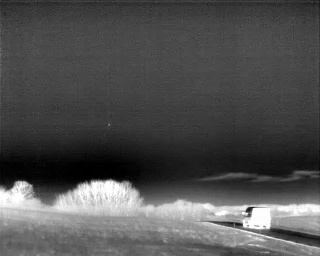BIRD: (106, 121, 113, 130)
